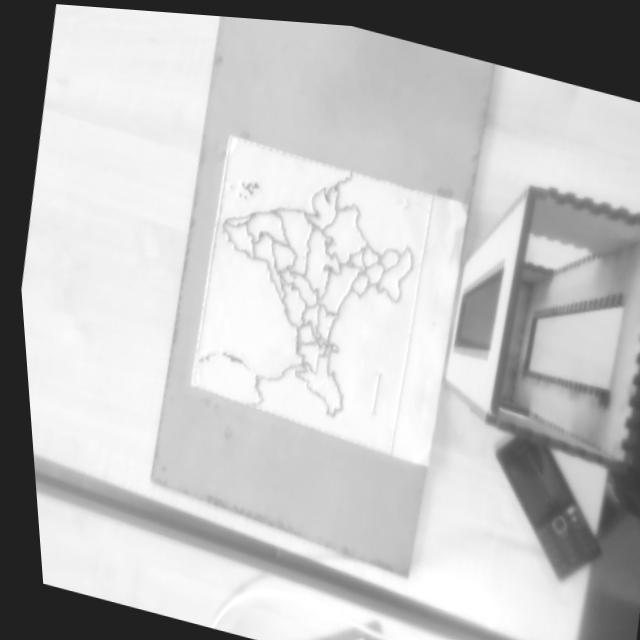map: (184, 136, 437, 457)
